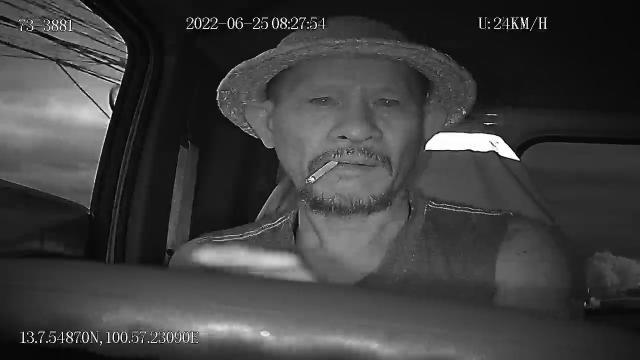SafeDriving: (366, 86, 408, 115), (301, 86, 344, 112)
Smoking: (307, 158, 339, 184)
